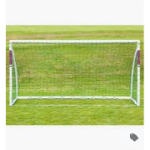goals: (8, 39, 141, 106)
